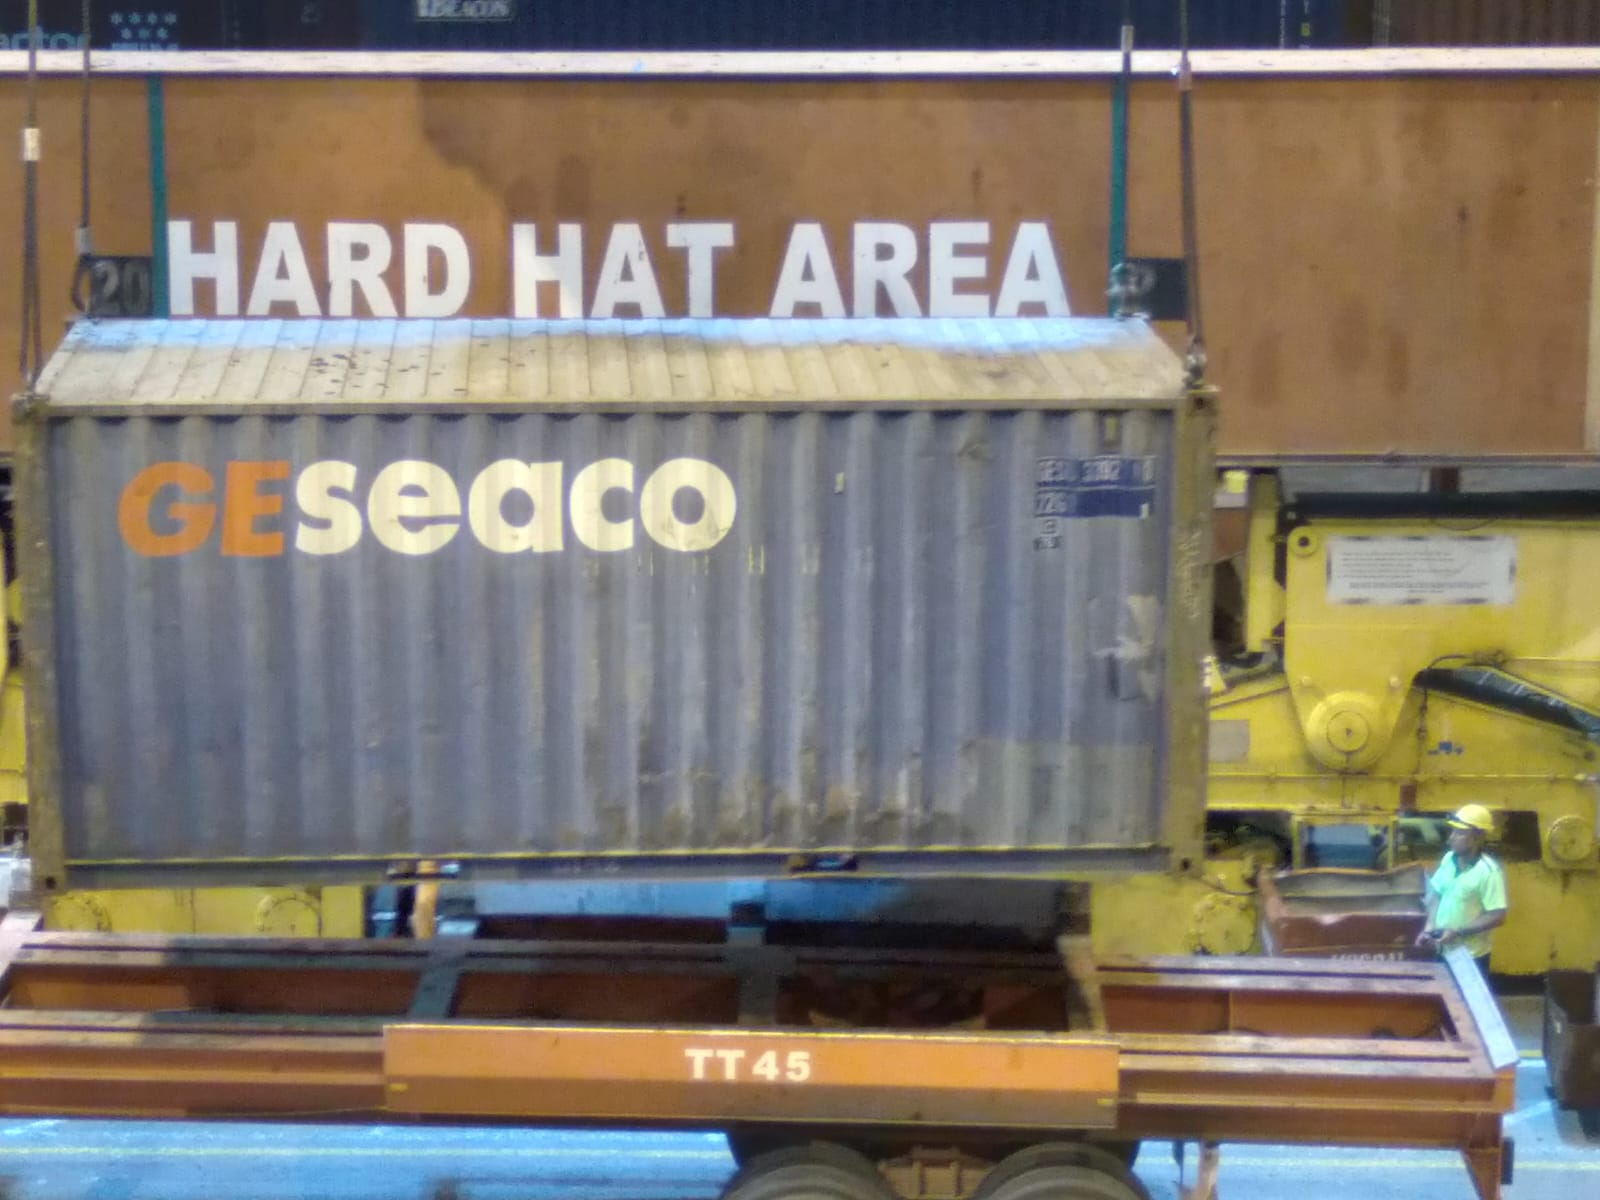moderate: (542, 745, 983, 855)
